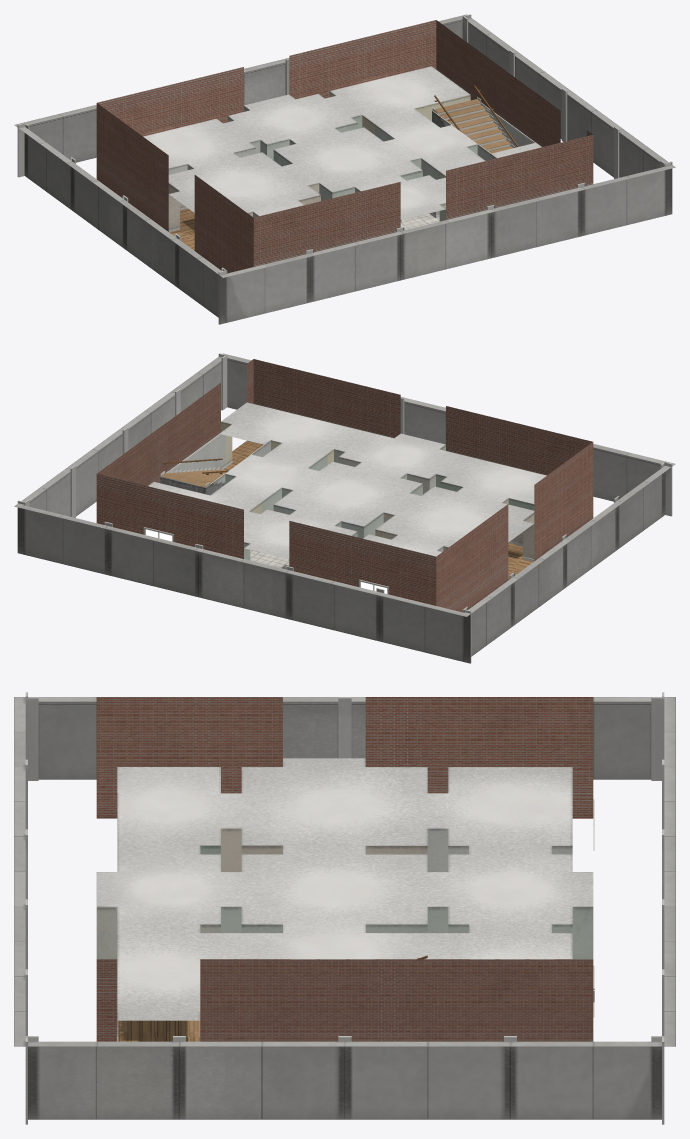
Rendered from annex_f1.glb.
The picture shows the model from 3 angles, top to bottom: view 1: azimuth 30°, elevation 25°; view 2: azimuth 150°, elevation 25°; view 3: azimuth 270°, elevation 25°; orthographic projection. The views are drawn at different scales.
Visible parts, largest first — view 1: shell, fence, ceil, stairs; view 2: shell, fence, ceil, stairs; view 3: ceil, fence, shell.
Boxes of the visible parts, x1,y1,x2,y2 form: shell: [96, 20, 593, 273]; fence: [14, 14, 675, 324]; ceil: [143, 66, 541, 220]; stairs: [432, 85, 518, 153]; shell: [96, 359, 593, 612]; fence: [14, 353, 675, 663]; ceil: [148, 402, 546, 559]; stairs: [160, 458, 228, 486]; ceil: [96, 758, 593, 1020]; fence: [14, 692, 675, 1124]; shell: [96, 697, 594, 1041].
Size of the model in its own units: 1000 by 162 by 800.
18 materials, 18 textured.
